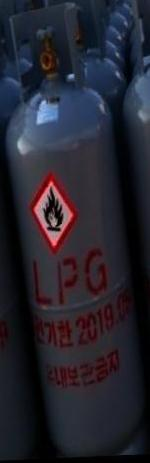cylinder: (1, 1, 150, 463)
